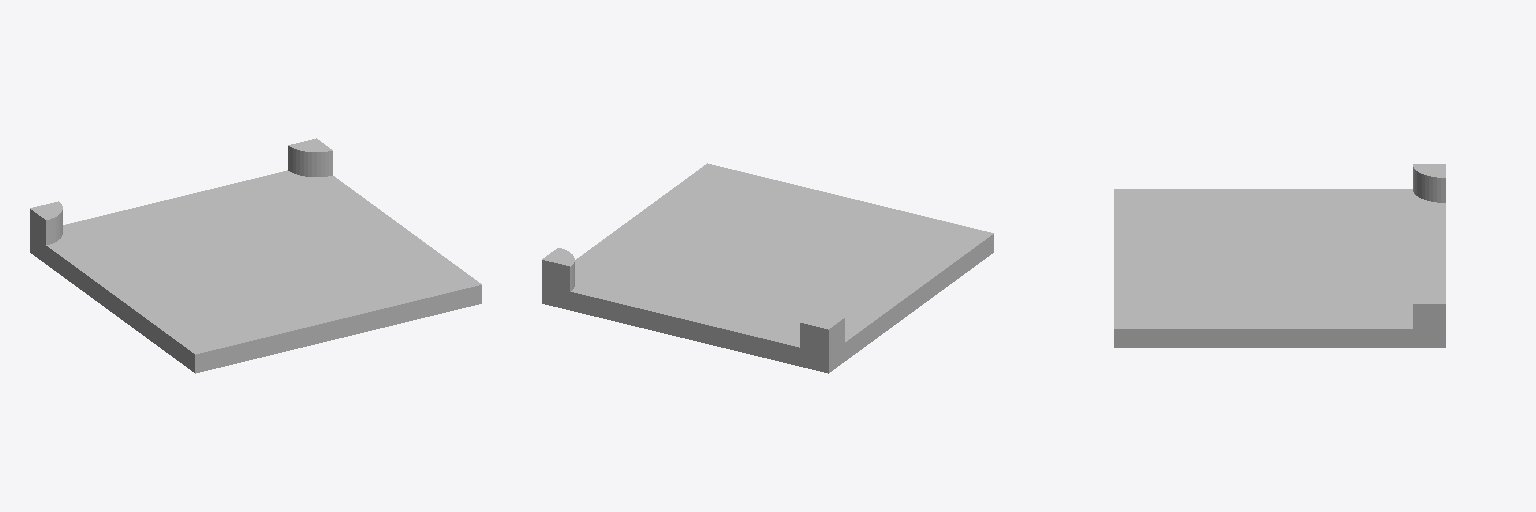
The model's file is wallsToOpen.obj.
The picture shows the model from 3 angles: view 1: azimuth 30°, elevation 25°; view 2: azimuth 150°, elevation 25°; view 3: azimuth 270°, elevation 25°; orthographic projection.
Parts seen in each view (by area): view 1: wallsToOpen; view 2: wallsToOpen; view 3: wallsToOpen.
Part boxes in pixels (x1,y1,x2,y2): wallsToOpen: (30,138,481,373); wallsToOpen: (542,163,993,373); wallsToOpen: (1114,164,1445,347).
Bounding box in the file's own units: 0.9999 × 0.1467 × 0.9999.